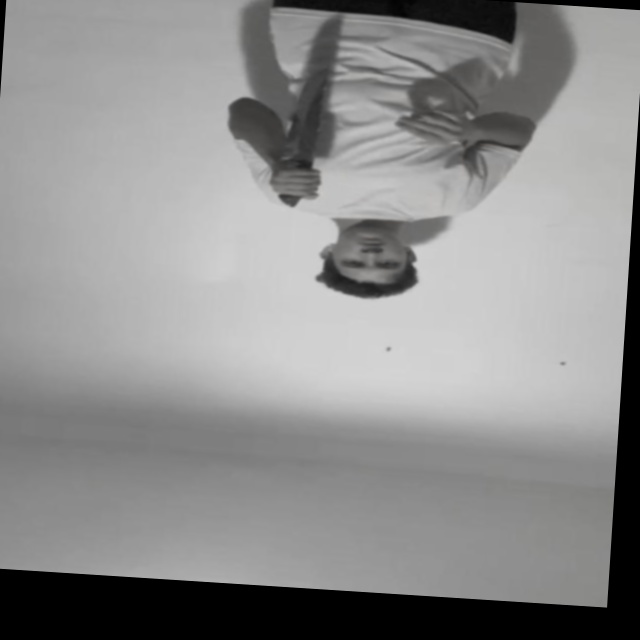Sharp-Object: (282, 71, 330, 165)
